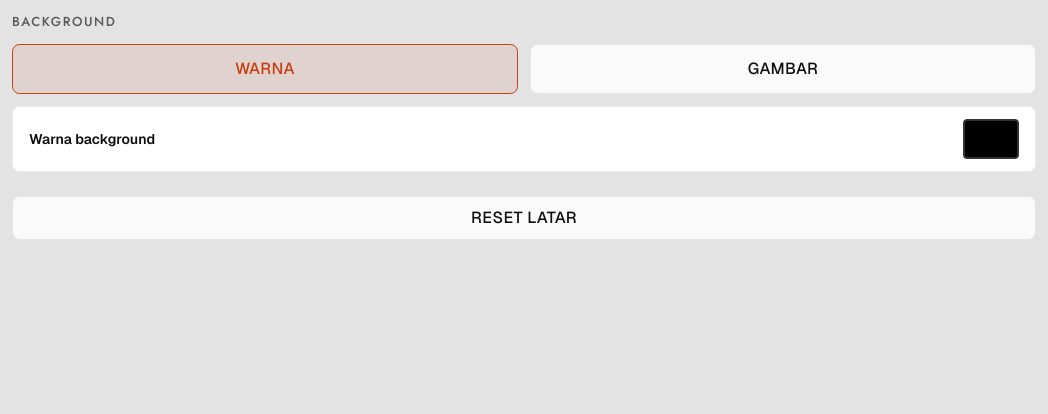
Test case: BackgroundPanel › ganti mode ke GAMBAR → bgMode image, input URL + galeri muncul
Click the button "GAMBAR": (783, 68) [530, 44, 1036, 94]
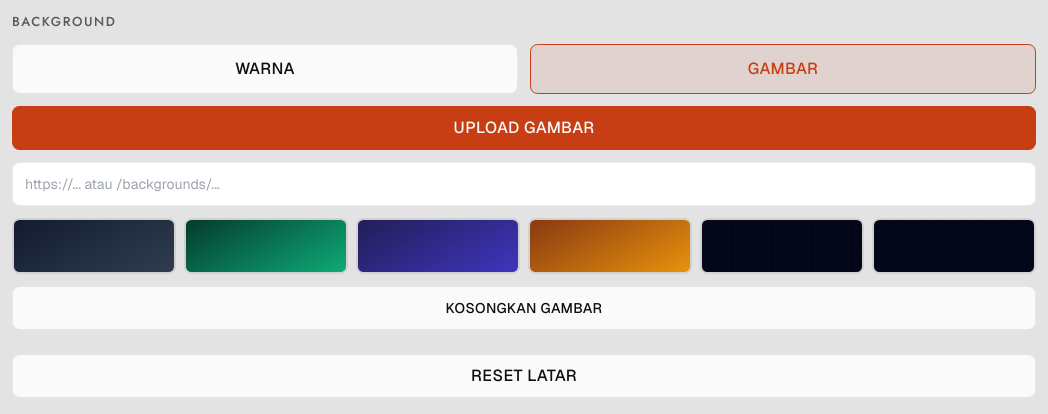
Result: the field named "URL gambar" is shown at [12, 162, 1036, 206]
